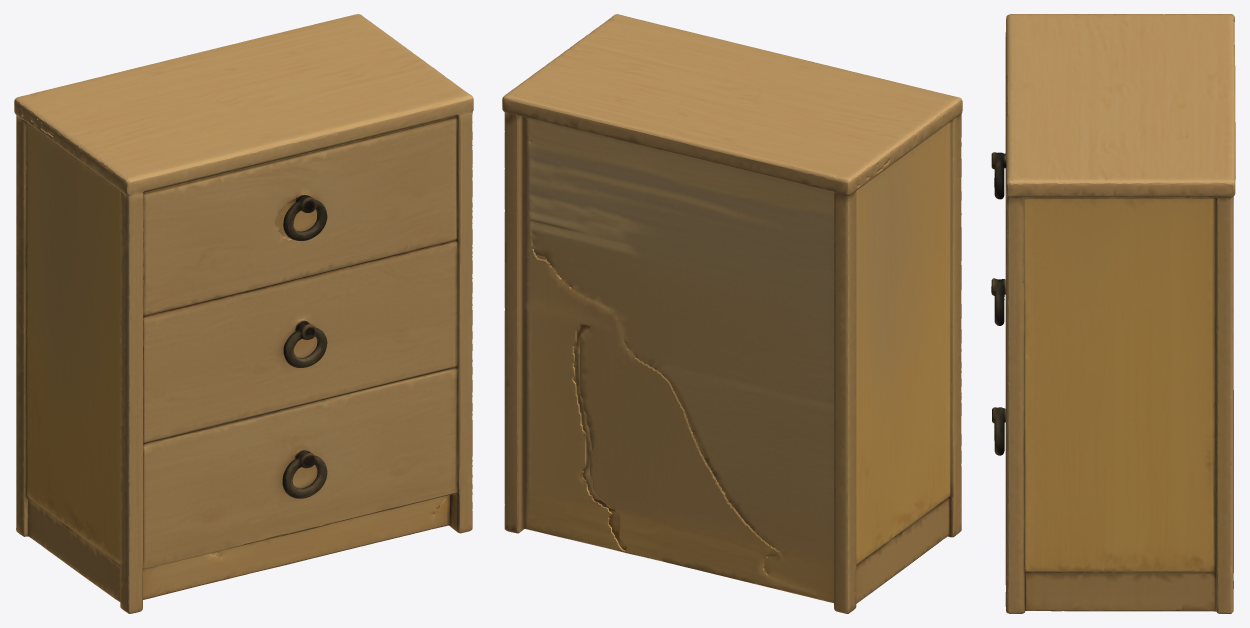
The model's file is item_510a2461.glb.
3 renders of one model, left to right at view 1: azimuth 30°, elevation 25°; view 2: azimuth 150°, elevation 25°; view 3: azimuth 270°, elevation 25°, orthographic.
Visible parts, largest first — view 1: world; view 2: world; view 3: world.
Boxes of the visible parts, left/top/right/bottom form: world: left=14, top=14, right=473, bottom=613; world: left=502, top=14, right=962, bottom=613; world: left=991, top=14, right=1235, bottom=613.
Size of the model in its own units: 0.7538 by 0.9 by 0.4591.
Materials: 1 (1 with a texture image).
